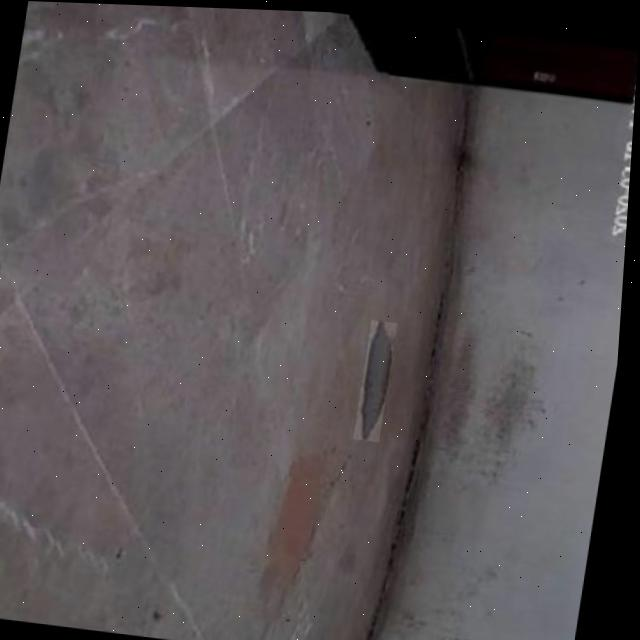spillage: (366, 317, 395, 437)
